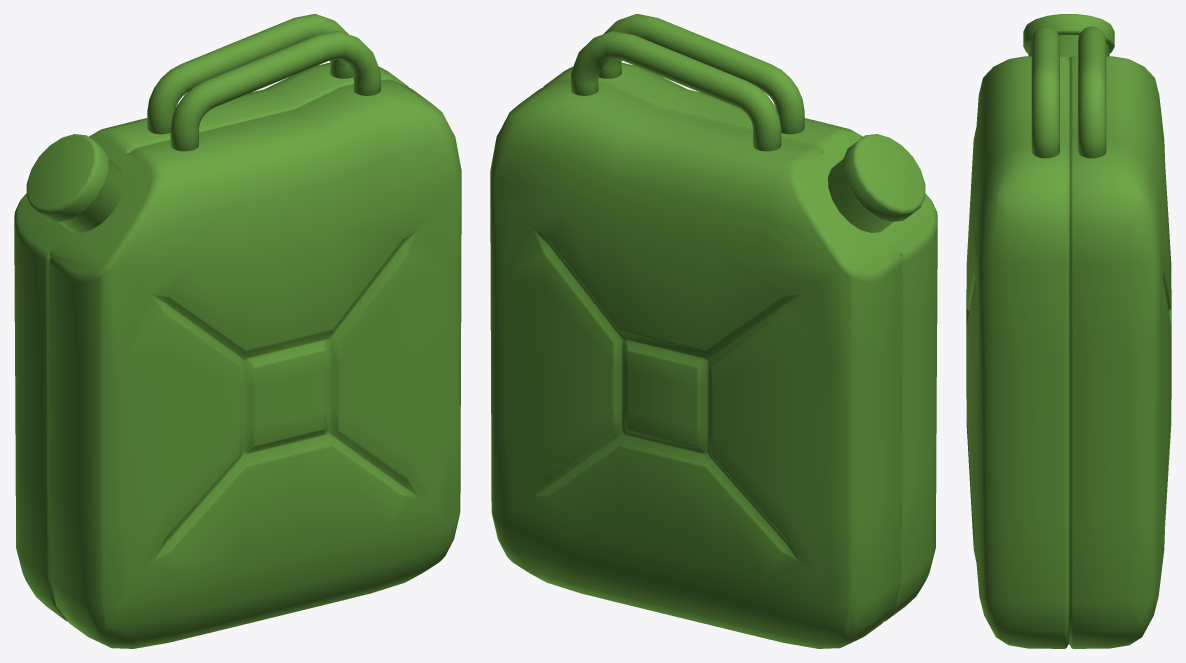
Rendered from canister1.fbx.
3 views of the same model, side by side, from view 1: azimuth 30°, elevation 25°; view 2: azimuth 150°, elevation 25°; view 3: azimuth 270°, elevation 25° (orthographic).
Parts seen in each view (by area): view 1: Cube; view 2: Cube; view 3: Cube.
Part boxes in pixels (x1,y1,x2,y2): Cube: [14, 14, 461, 648]; Cube: [490, 14, 937, 648]; Cube: [966, 14, 1171, 648].
Bounding box in the file's own units: 1.17 × 1.58 × 0.5314.
